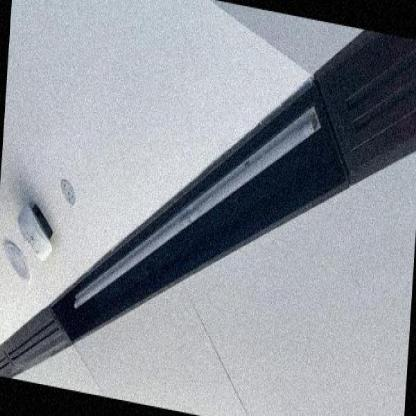light_off: (68, 43, 328, 370)
